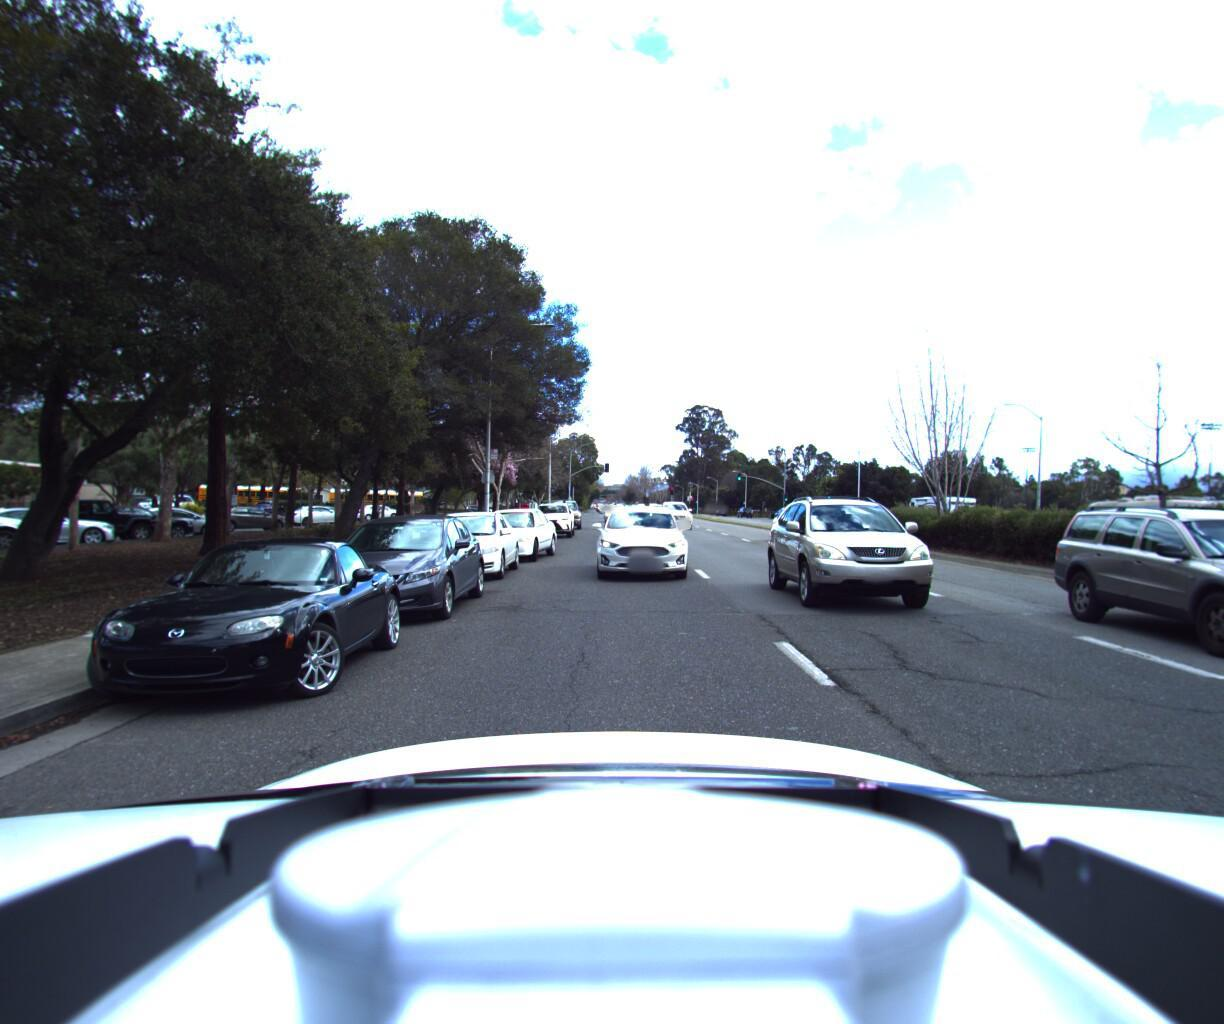car: (52, 526, 419, 724), (769, 479, 1009, 637), (1087, 489, 1224, 717), (298, 510, 494, 628), (587, 499, 703, 594), (410, 509, 523, 584), (461, 506, 562, 567), (771, 499, 853, 550), (529, 500, 576, 541), (656, 503, 698, 535), (549, 499, 584, 533), (599, 501, 627, 525)
other_vehicle: (1062, 491, 1224, 568), (898, 491, 980, 539)
